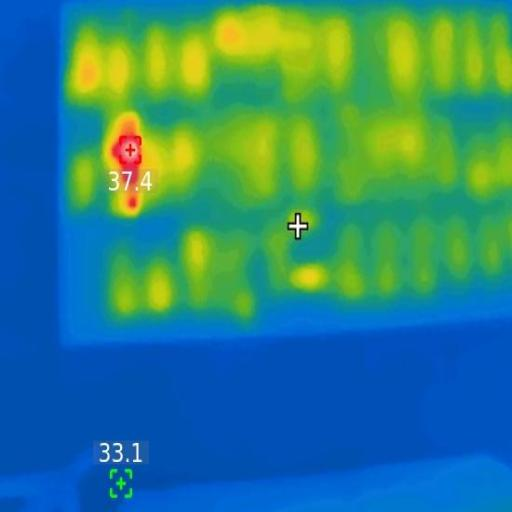hotspot: (114, 127, 146, 176), (124, 190, 140, 209)
